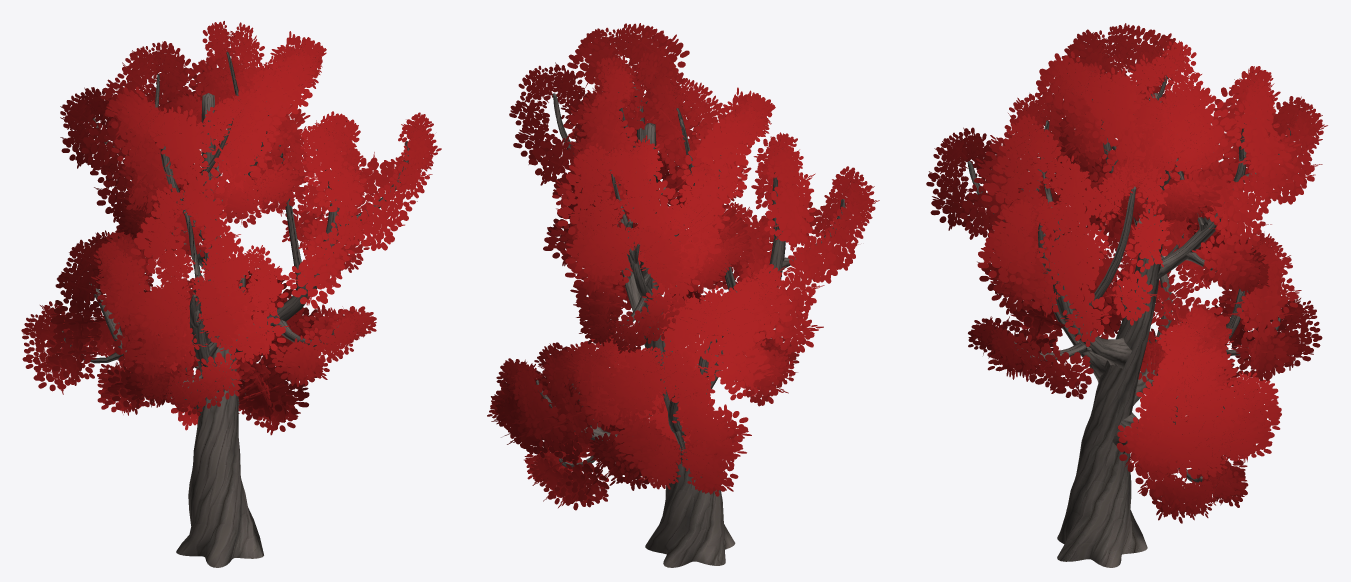
File: TwistedTree_3.gltf
The picture shows the model from 3 angles, left to right: view 1: azimuth 30°, elevation 25°; view 2: azimuth 150°, elevation 25°; view 3: azimuth 270°, elevation 25°; orthographic projection. The views are drawn at different scales.
Parts seen in each view (by area): view 1: TwistedTree_3; view 2: TwistedTree_3; view 3: TwistedTree_3.
Boxes of the visible parts, x1,y1,x2,y2 form: TwistedTree_3: (21, 21, 441, 567); TwistedTree_3: (487, 23, 879, 567); TwistedTree_3: (926, 23, 1327, 567).
Size of the model in its own units: 11.36 by 16.07 by 11.51.
Materials: 2 (2 with a texture image).
